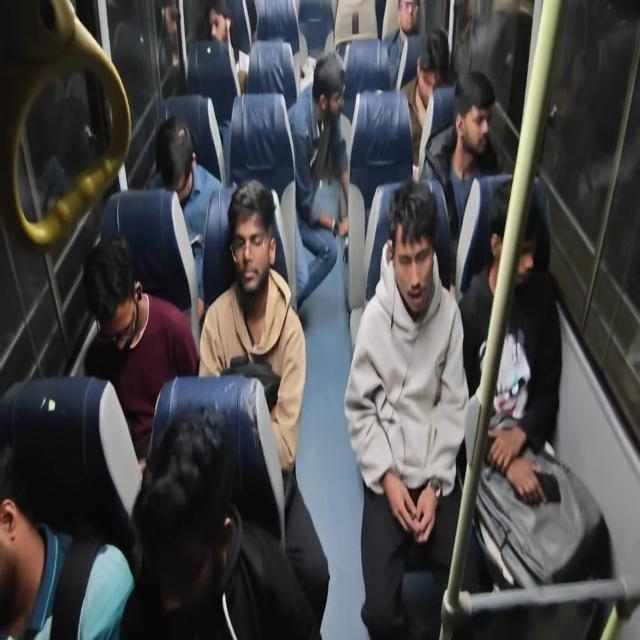person: (388, 202, 486, 478), (132, 453, 249, 640), (223, 183, 299, 428), (82, 248, 158, 452), (0, 418, 55, 640), (493, 190, 557, 379), (456, 70, 518, 256), (296, 58, 351, 176), (410, 26, 463, 140), (148, 109, 193, 237), (207, 1, 246, 95), (395, 0, 426, 49)
